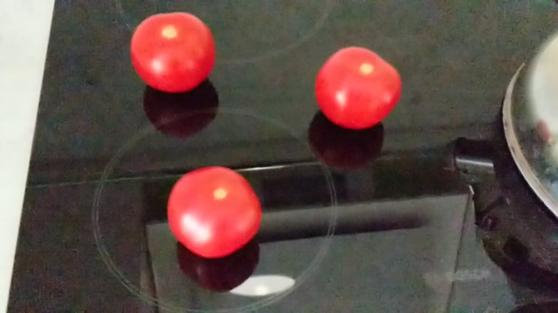tomato: (162, 161, 262, 256), (314, 43, 403, 129), (133, 13, 212, 92)
